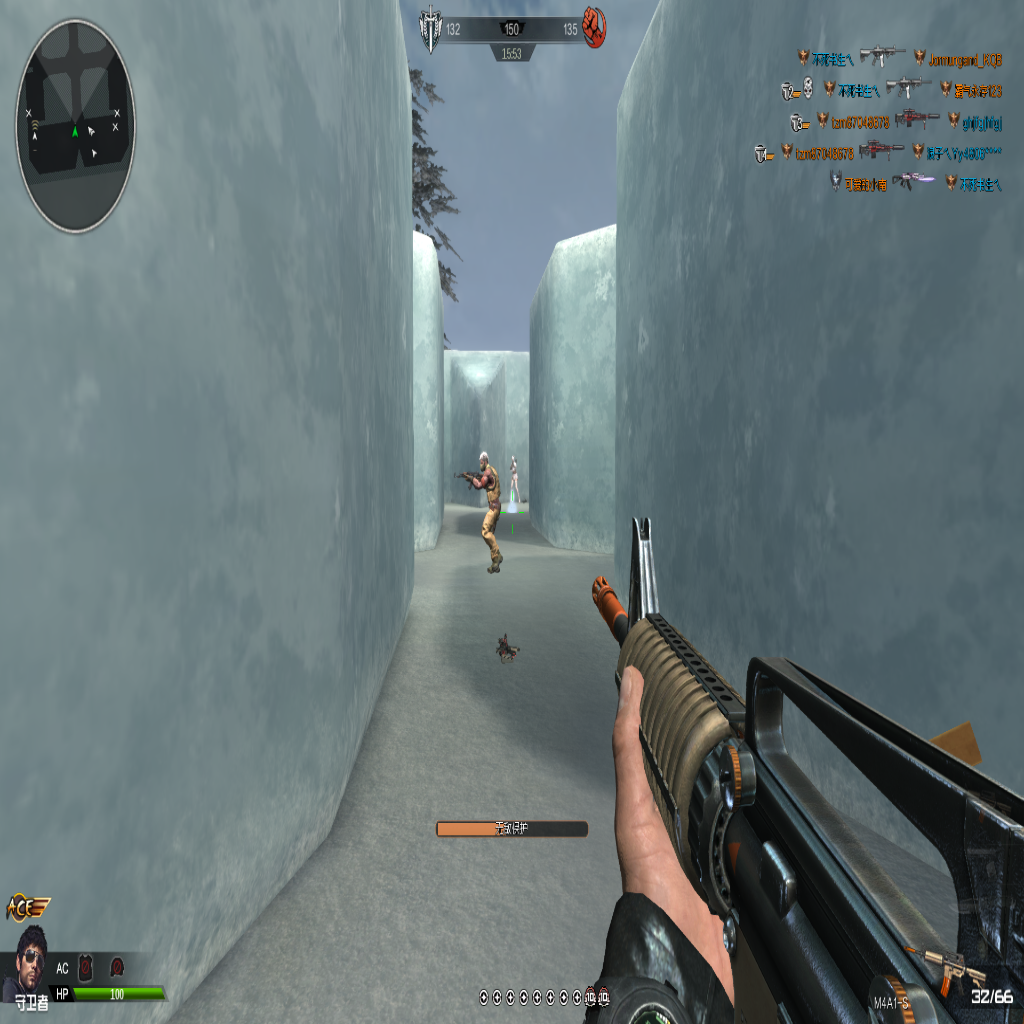tt: (464, 452, 504, 575), (509, 455, 522, 506)
